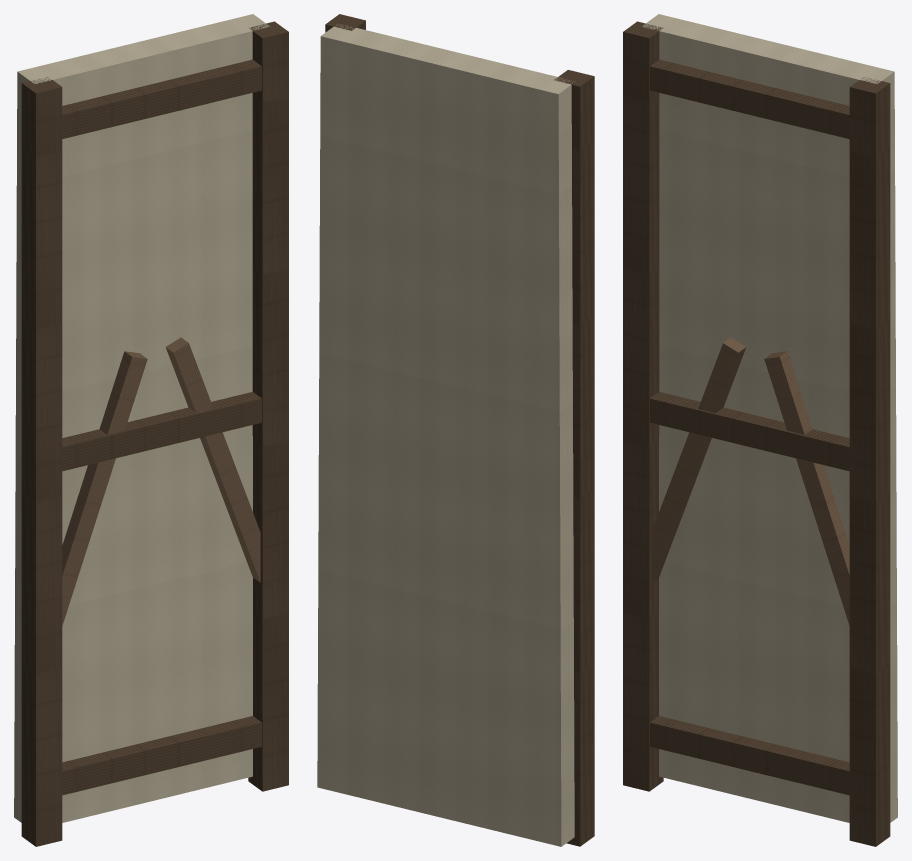
File: village__05__expanded_warehouse__back_frame__section_06.glb
3 renders of one model, left to right at view 1: azimuth 30°, elevation 25°; view 2: azimuth 150°, elevation 25°; view 3: azimuth 330°, elevation 25°, orthographic.
Parts seen in each view (by area): view 1: BackFrame_Section_06; view 2: BackFrame_Section_06; view 3: BackFrame_Section_06.
Boxes of the visible parts, bbox=[...] form: BackFrame_Section_06: bbox=[14, 14, 288, 846]; BackFrame_Section_06: bbox=[317, 14, 594, 846]; BackFrame_Section_06: bbox=[623, 14, 897, 846].
Bounding box in the file's own units: 1.53 × 4.37 × 0.2887.
3 materials, 3 textured.
